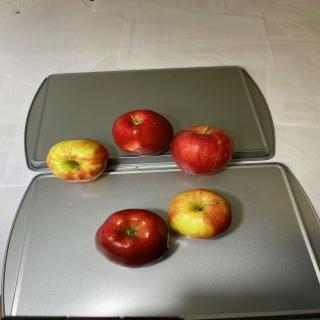Apple: (95, 208, 170, 269), (167, 188, 232, 240), (170, 125, 234, 176), (112, 109, 174, 157), (46, 138, 109, 183)
